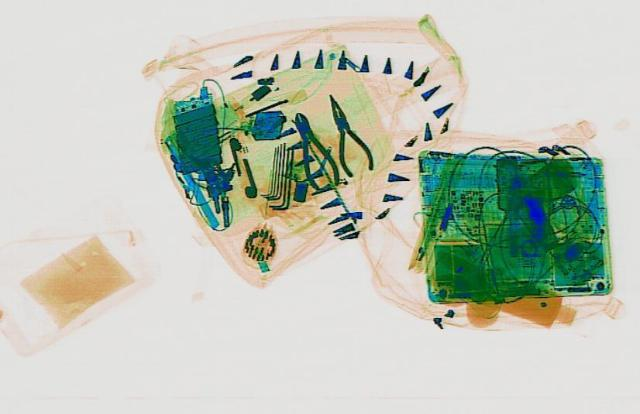Pliers: (312, 91, 380, 176), (284, 109, 340, 190)
